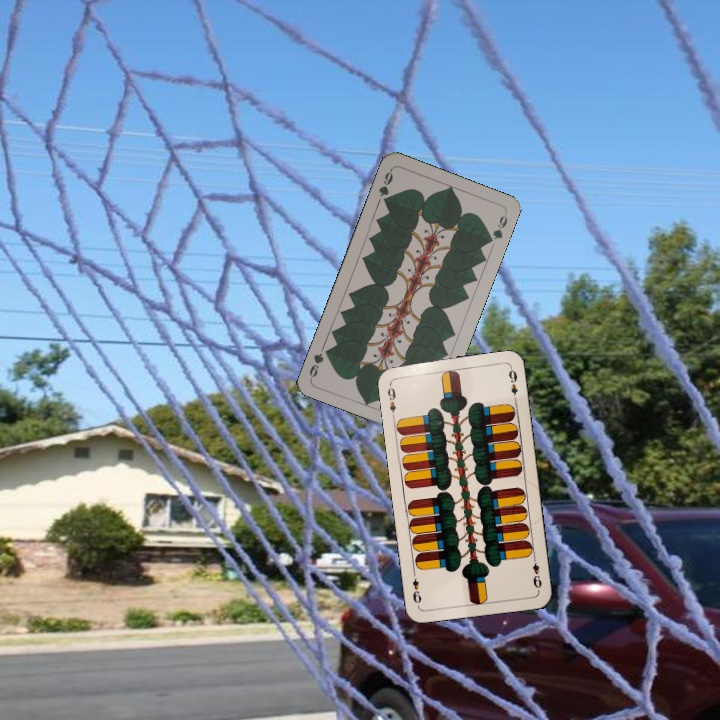E9: (383, 380, 398, 420), (529, 552, 544, 591)
G9: (375, 165, 396, 207)
